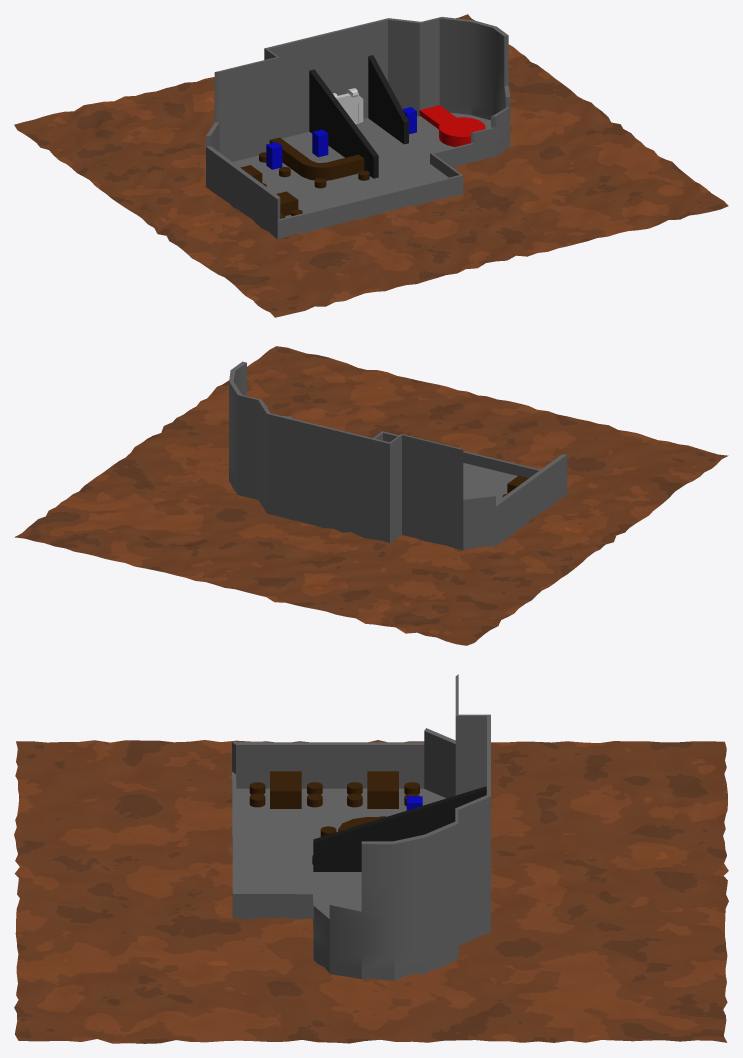
File: HUBV2_Collapsed.fbx
The picture shows the model from 3 angles, top to bottom: view 1: azimuth 30°, elevation 25°; view 2: azimuth 150°, elevation 25°; view 3: azimuth 270°, elevation 25°; orthographic projection. The views are drawn at different scales.
Parts seen in each view (by area): view 1: Floor, Walls, WallsInside, Bar, Forge, level1_door, Table, Stool; view 2: Floor, Walls; view 3: Floor, Walls, WallsInside, Table, Stool.
Part boxes in pixels (x1,y1,x2,y2): Floor: (14,14,728,317); Walls: (206,17,510,239); WallsInside: (309,55,408,178); Bar: (269,137,364,180); Forge: (439,117,485,146); level1_door: (332,88,363,124); Table: (240,165,298,215); Stool: (259,152,369,218); Floor: (14,346,728,645); Walls: (229,361,567,550); Floor: (14,740,728,1043); Walls: (232,674,490,980); WallsInside: (313,786,486,871); Table: (270,771,398,808); Stool: (249,782,419,864).
Size of the model in its own units: 1787 by 386 by 1787.
